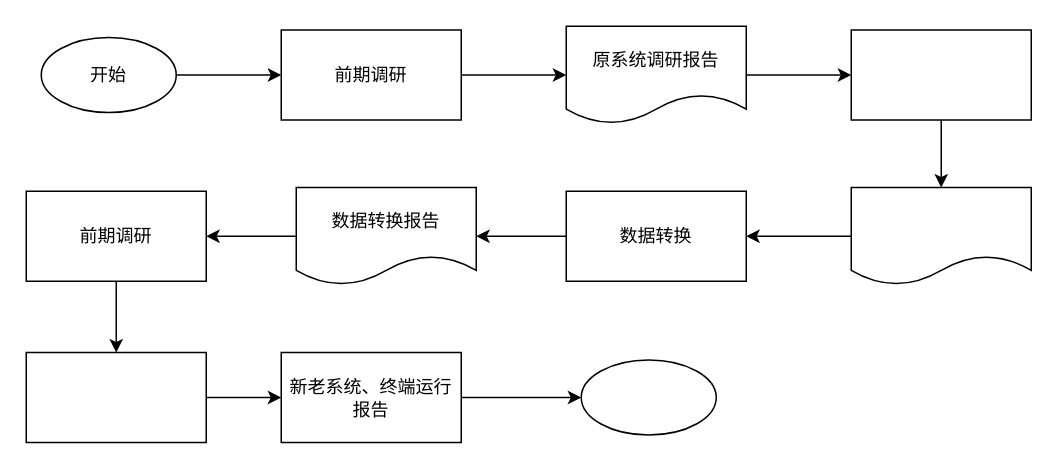
Some shapes in this 1058 by 470 pixel diagram are drawn without their labels. The shapes that lost their labels are listed below. From the top down, each one's centre as x and y in pixels, then its label:
At (x=940, y=74): "数据整理".
At (x=940, y=235): "数据分析报告".
At (x=115, y=396): "运行监控".
At (x=648, y=396): "结束".
